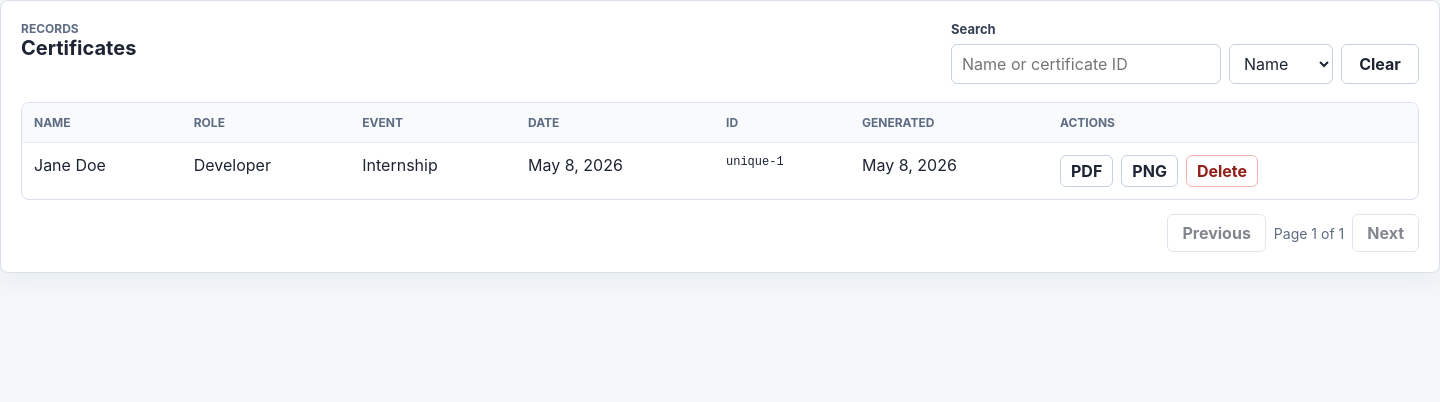
Test case: CertificateList › deletes a confirmed certificate and refreshes the list
Expected: the text "Jane Doe" is shown, x1=22 y1=142 x2=182 y2=199
Click the button "Delete" at [1222, 171], box x1=1186 y1=155 x2=1258 y2=187
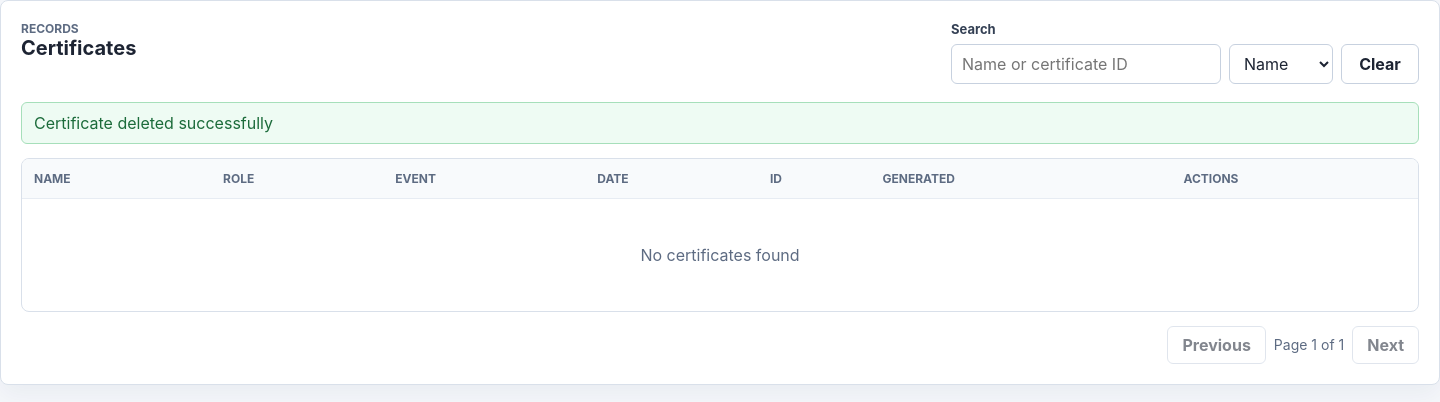
Expected: the text "Certificate deleted successfully" is shown, x1=21 y1=102 x2=1419 y2=144
Expected: the text "No certificates found" is shown, x1=22 y1=198 x2=1418 y2=310
